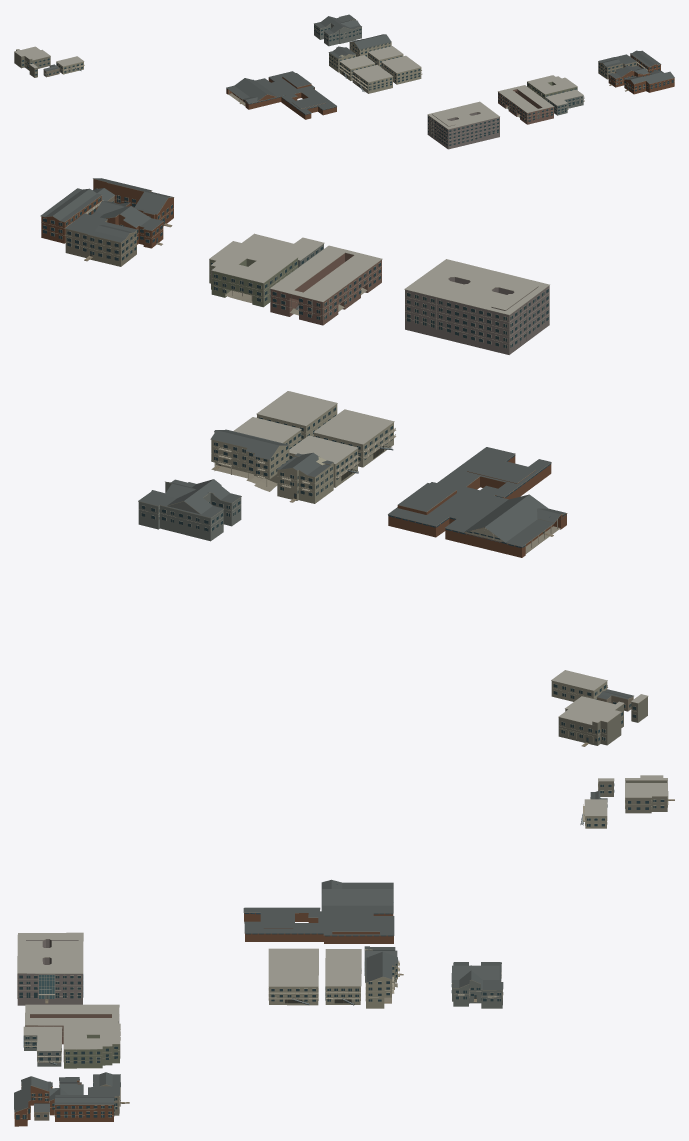
Rendered from site.glb.
The picture shows the model from 3 angles, top to bottom: view 1: azimuth 30°, elevation 25°; view 2: azimuth 150°, elevation 25°; view 3: azimuth 270°, elevation 25°; orthographic projection. The views are drawn at different scales.
Parts seen in each view (by area): view 1: roof-ee86f391, roof-2c3fb507, roof-8705a1c2, roof-44344453, alder-1774-west, kincaid-1841, roof-c9398dad, east18-888, roof-e6548564, kincaid-1844, east17-790-alder-1710, roof-16857485 (+6 smaller); view 2: roof-ee86f391, roof-2c3fb507, roof-8705a1c2, roof-44344453, east18-888, roof-e6548564, east17-790-alder-1710, roof-16857485, alder-1774-west, east17-762, roof-c9398dad, east18-942 (+7 smaller); view 3: roof-ee86f391, roof-2c3fb507, east18-888, roof-44344453, roof-8705a1c2, roof-c9398dad, roof-e6548564, east18-942, east17-790-alder-1710, roof-1c9fe107, kincaid-1844, kincaid-1841 (+5 smaller).
Part boxes in pixels (x1,y1,x2,y2): roof-ee86f391: (226,71,336,119); roof-2c3fb507: (427,101,499,149); roof-8705a1c2: (498,85,553,124); roof-44344453: (314,14,361,46); alder-1774-west: (351,65,392,93); kincaid-1841: (624,71,674,94); roof-c9398dad: (381,55,422,84); east18-888: (527,75,577,99); roof-e6548564: (14,46,50,77); kincaid-1844: (545,89,584,115); east17-790-alder-1710: (349,34,391,57); roof-16857485: (598,54,636,79); roof-ee86f391: (388,447,567,557); roof-2c3fb507: (404,259,549,354); roof-8705a1c2: (270,245,382,325); roof-44344453: (138,479,241,541); east18-888: (209,241,298,307); roof-e6548564: (558,694,648,745); east17-790-alder-1710: (210,429,289,486); roof-16857485: (65,213,137,266); alder-1774-west: (313,409,395,467); east17-762: (276,452,334,503); roof-c9398dad: (256,391,337,440); east18-942: (40,188,103,243); roof-ee86f391: (243,879,394,943); roof-2c3fb507: (17,932,83,1005); east18-888: (63,1023,120,1068); roof-44344453: (451,962,503,1008); roof-8705a1c2: (25,1004,119,1044); roof-c9398dad: (268,967,318,1005); roof-e6548564: (598,775,668,813); east18-942: (54,1095,114,1121); east17-790-alder-1710: (365,951,399,1008); roof-1c9fe107: (325,967,361,1005); kincaid-1844: (23,1026,62,1066); kincaid-1841: (14,1076,52,1126).
Bounding box in the file's own units: 375 × 22.66 × 295.
